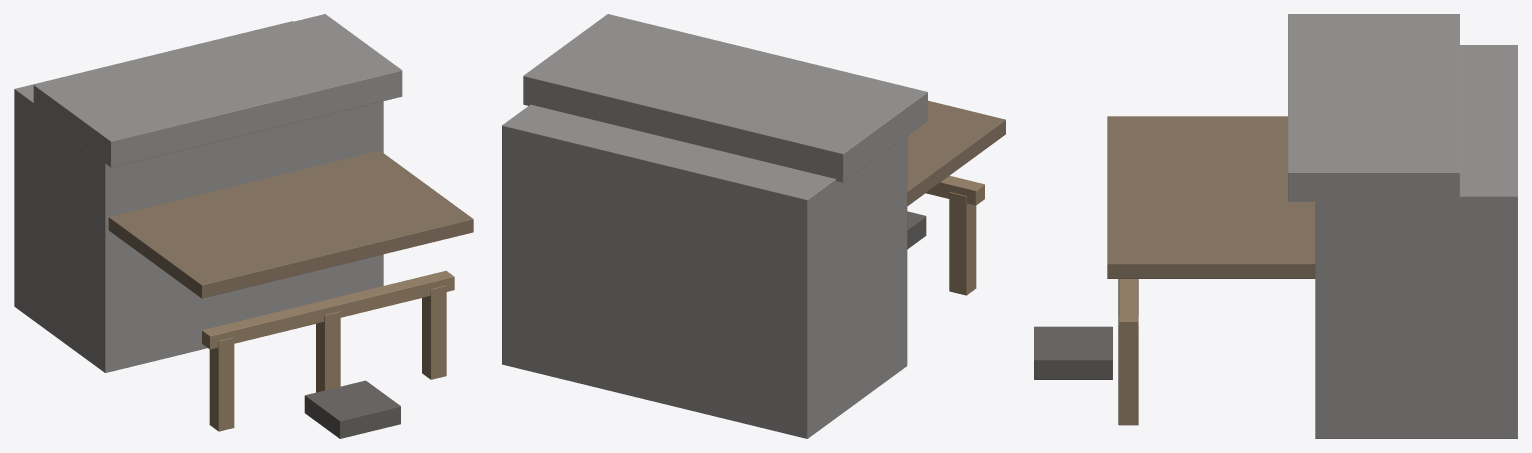
File: House_Paleo_d.glb
3 renders of one model, left to right at view 1: azimuth 30°, elevation 25°; view 2: azimuth 150°, elevation 25°; view 3: azimuth 270°, elevation 25°, orthographic. The views are drawn at different scales.
Visible parts, largest first — view 1: House_Paleo_d; view 2: House_Paleo_d; view 3: House_Paleo_d.
Part boxes in pixels (box(x1,y1,x2,y2)): House_Paleo_d: box(14, 14, 473, 438); House_Paleo_d: box(502, 14, 1005, 438); House_Paleo_d: box(1034, 14, 1517, 438).
Size of what is drawn, in the model's own units: 4.05 by 3.21 by 5.22.
